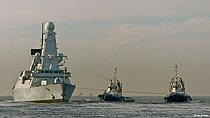MIL_Ship: (12, 20, 75, 103)
